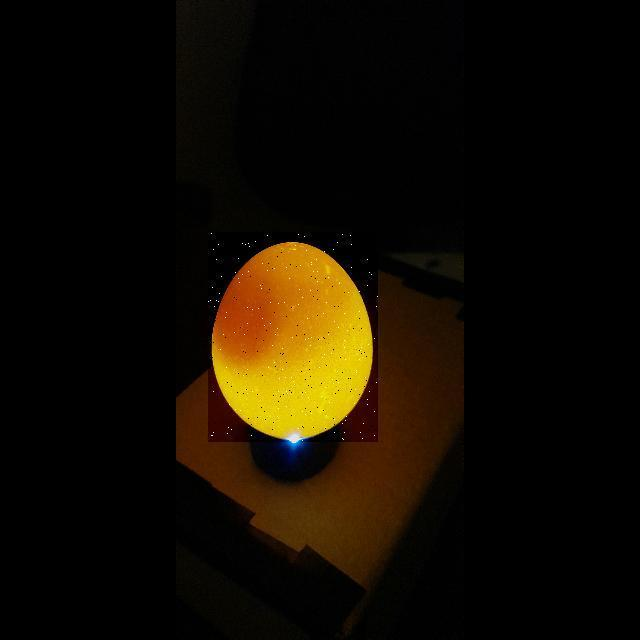Inedible: (214, 237, 379, 438)
